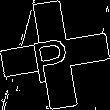P_N: (32, 27, 78, 83)
